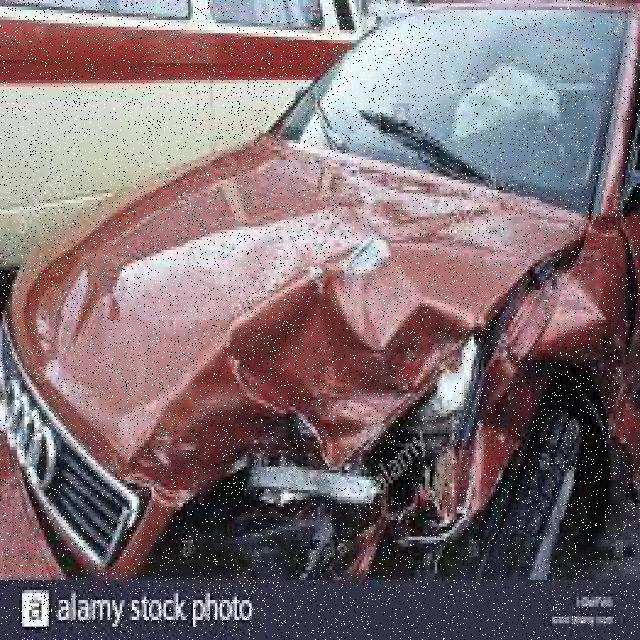bonnet-dent: (66, 176, 503, 486)
